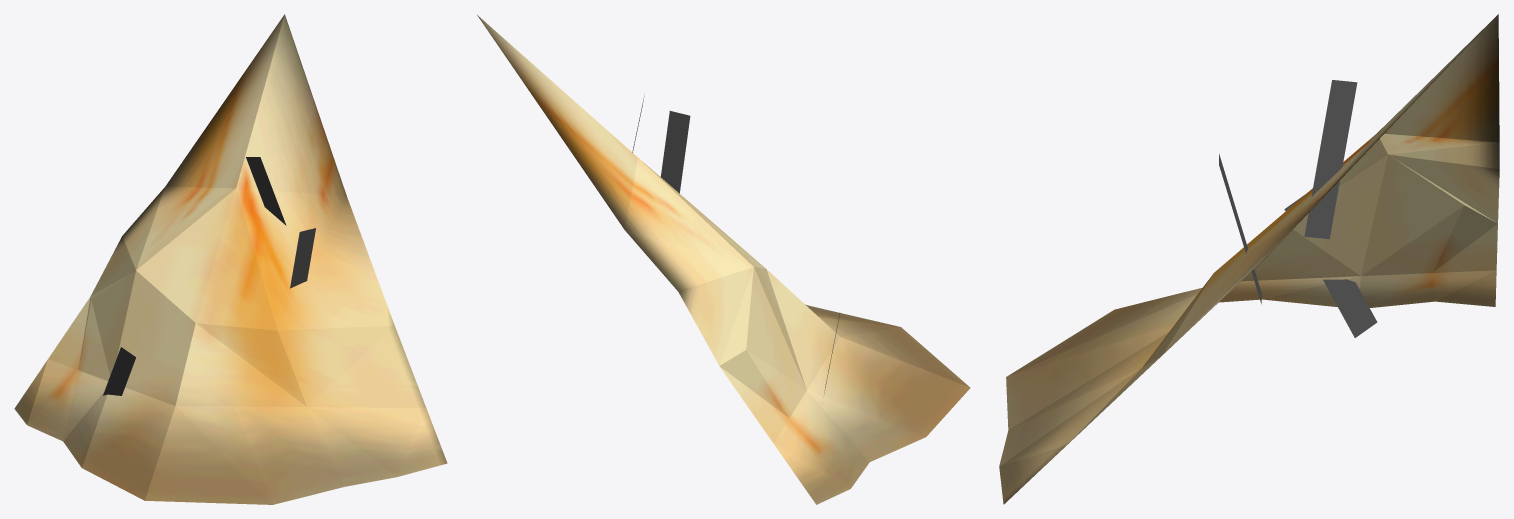
File: Schmutzhaufen [Hell]_1506.glb
3 views of the same model, side by side, from view 1: azimuth 30°, elevation 25°; view 2: azimuth 150°, elevation 25°; view 3: azimuth 270°, elevation 25° (orthographic). The views are drawn at different scales.
Parts seen in each view (by area): view 1: pPlaneShape18, pPlaneShape20, pPlaneShape19, pPlaneShape21; view 2: pPlaneShape18, pPlaneShape19; view 3: pPlaneShape18, pPlaneShape20, pPlaneShape21.
Boxes of the visible parts, bbox=[...] form: pPlaneShape18: bbox=[14, 14, 447, 504]; pPlaneShape20: bbox=[246, 157, 286, 225]; pPlaneShape19: bbox=[290, 228, 315, 288]; pPlaneShape21: bbox=[103, 347, 135, 395]; pPlaneShape18: bbox=[477, 15, 970, 504]; pPlaneShape19: bbox=[660, 111, 690, 193]; pPlaneShape18: bbox=[999, 14, 1499, 504]; pPlaneShape20: bbox=[1304, 80, 1357, 239]; pPlaneShape21: bbox=[1284, 195, 1377, 337].
Bounding box in the file's own units: 0.1264 × 0.1407 × 0.1296.
Materials: 4 (1 with a texture image).
